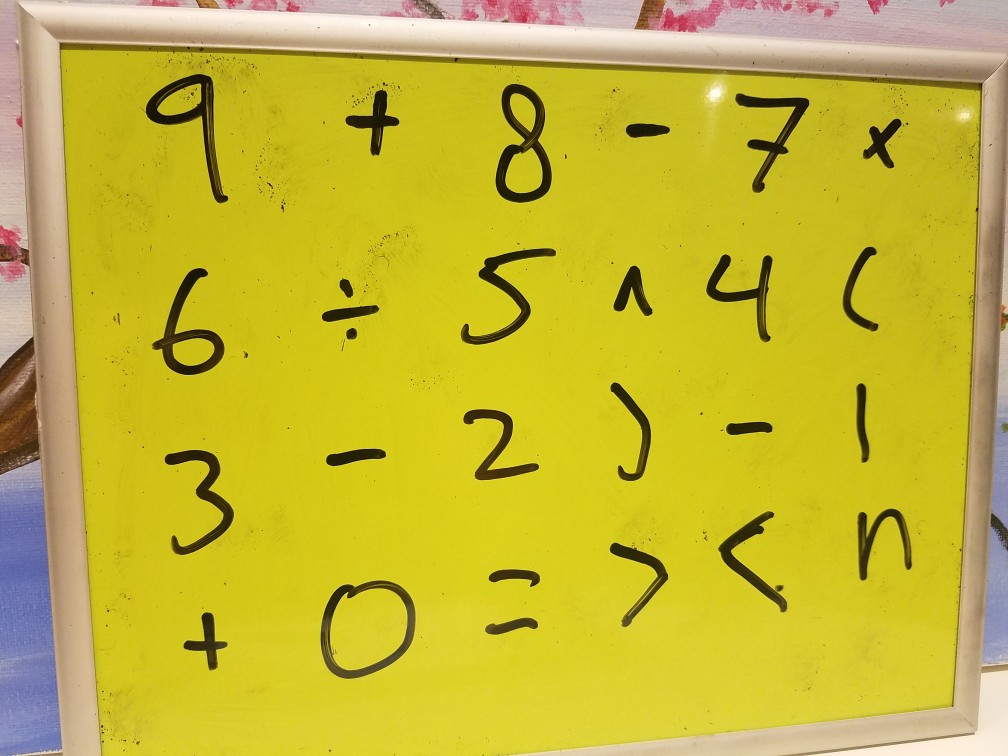(: (830, 240, 891, 344)
): (597, 375, 657, 489)
+: (345, 80, 405, 162), (180, 604, 241, 675)
-: (320, 423, 394, 489), (621, 105, 680, 150), (720, 411, 781, 445)
0: (309, 569, 421, 689)
1: (838, 374, 883, 475)
2: (446, 397, 557, 501)
3: (156, 435, 239, 563)
4: (700, 241, 781, 346)
5: (456, 238, 560, 356)
6: (141, 252, 236, 389)
7: (720, 80, 816, 199)
8: (487, 79, 568, 205)
9: (135, 64, 246, 220)
<: (710, 509, 792, 620)
=: (471, 558, 558, 651)
>: (603, 527, 670, 640)
^: (605, 259, 658, 324)
div: (312, 266, 386, 353)
n: (841, 497, 917, 589)
x: (854, 109, 912, 175)
